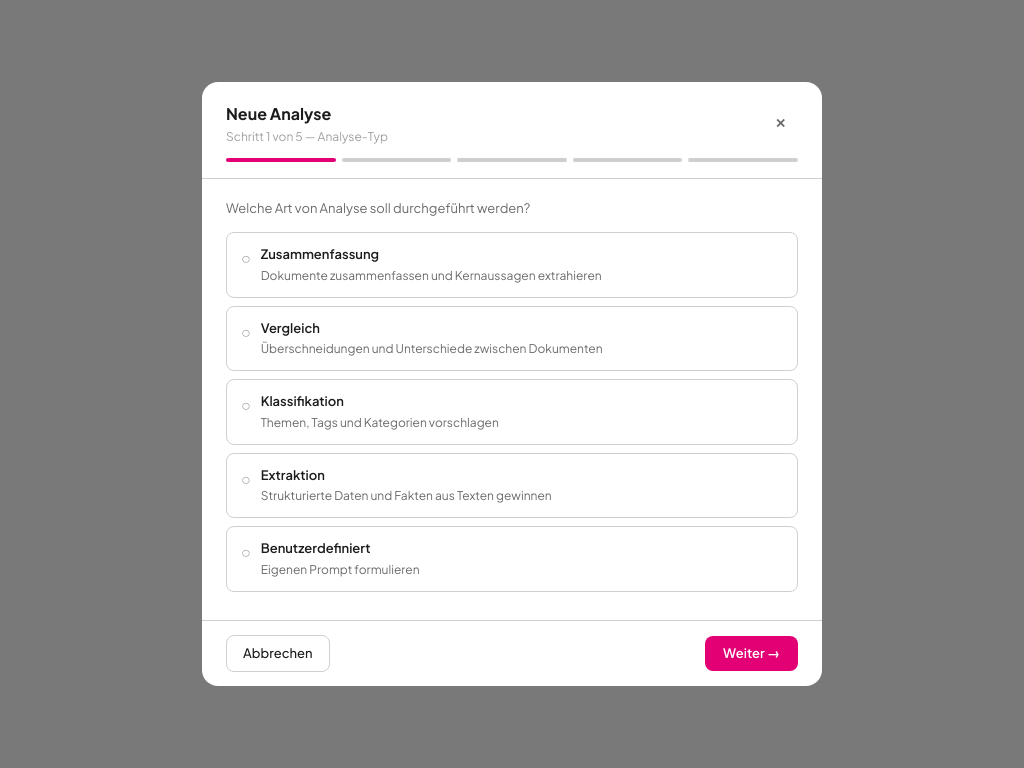
Scenario: Step 2 — Datenquelle › blocks advance without source type
Click the radio button with test id "type-summarize" at coordinates (512, 265), box 226,232 -> 798,298
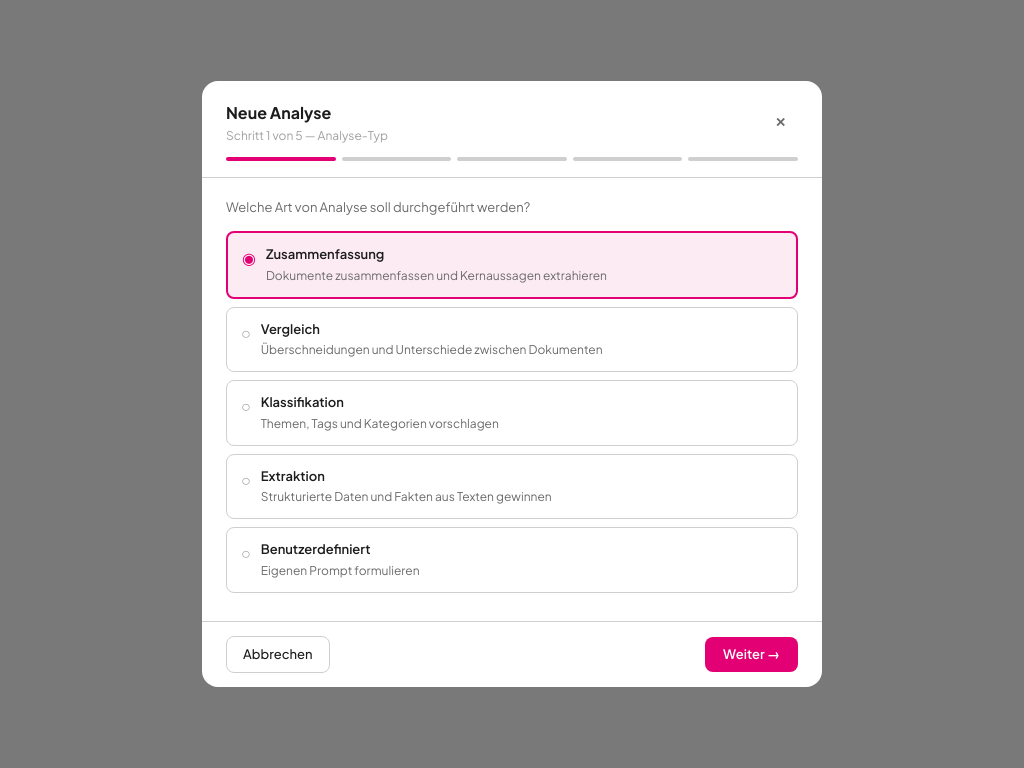
Click the button with test id "btn-next" at coordinates (752, 655), box 705,637 -> 798,672
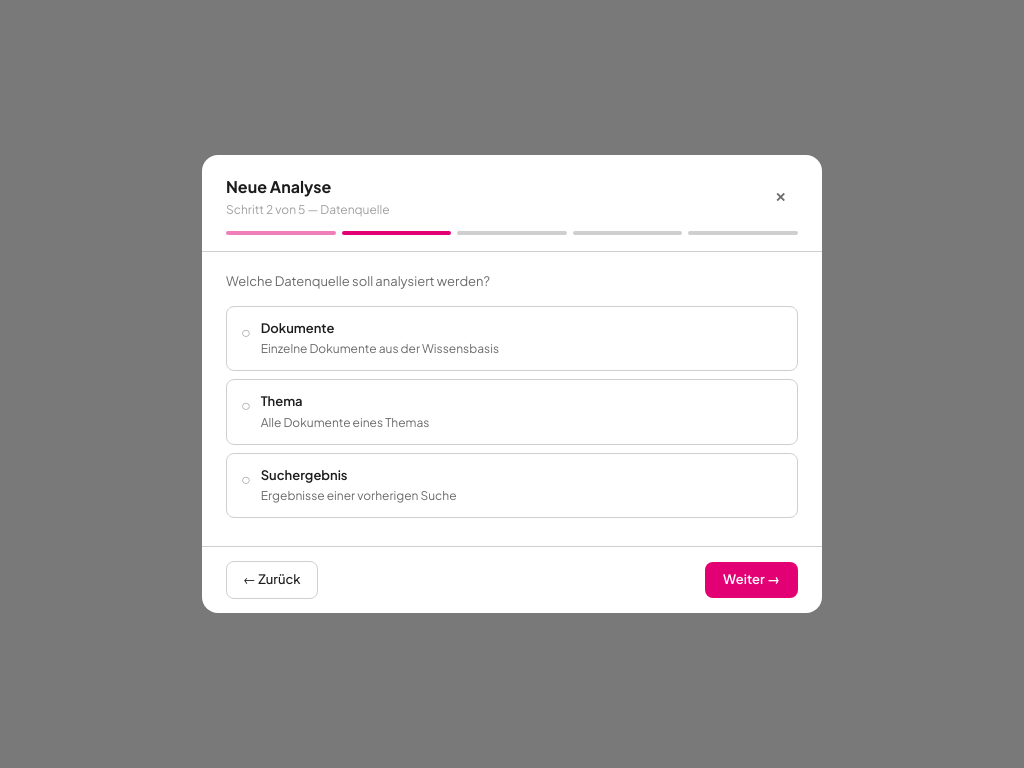
Click the button with test id "btn-next" at coordinates (752, 580), box 705,562 -> 798,598
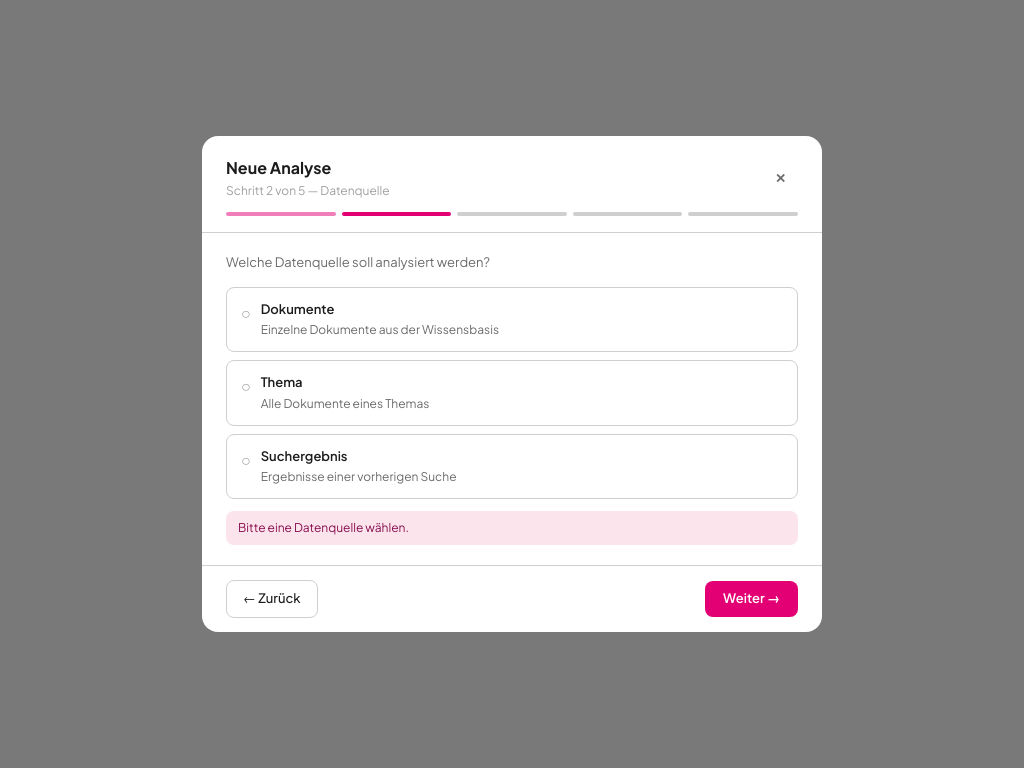
Check: the text "Bitte eine Datenquelle wählen." is shown, box 226,511 -> 798,545
